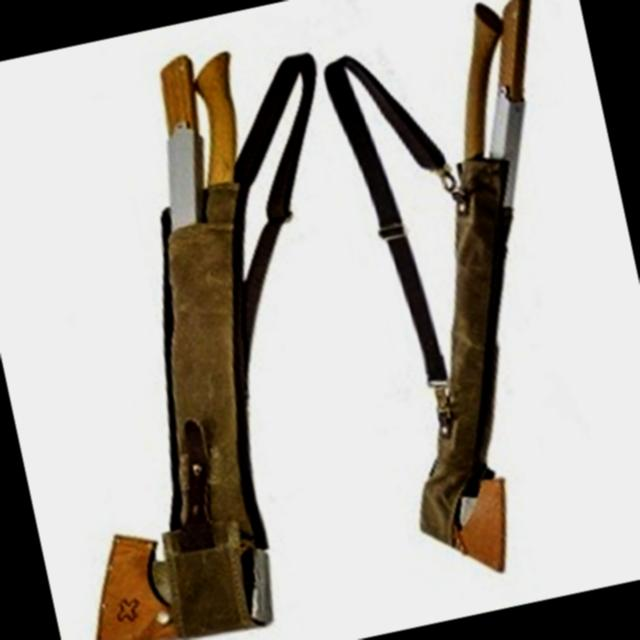ax: (0, 36, 357, 640), (301, 0, 640, 601)
